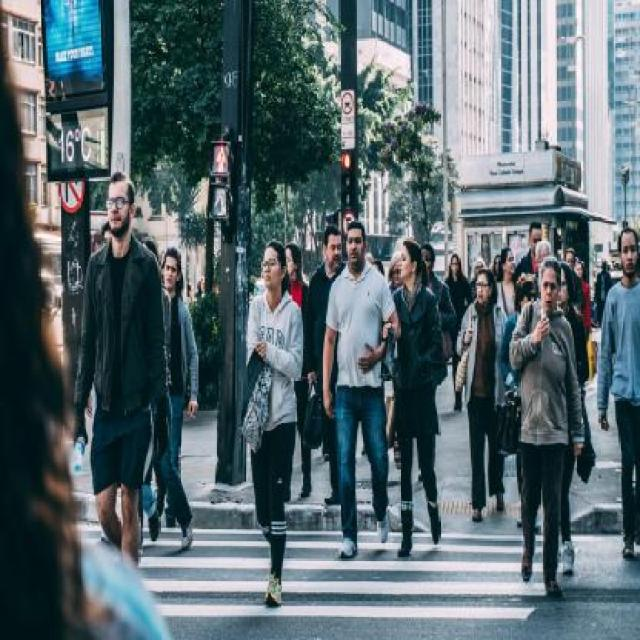sem_oculos: (540, 272, 564, 298), (256, 254, 288, 272), (104, 198, 138, 210), (314, 242, 344, 255), (344, 237, 370, 250), (619, 243, 637, 256), (164, 260, 180, 273), (474, 280, 489, 293), (525, 232, 541, 244), (451, 258, 464, 271), (504, 256, 516, 266)
